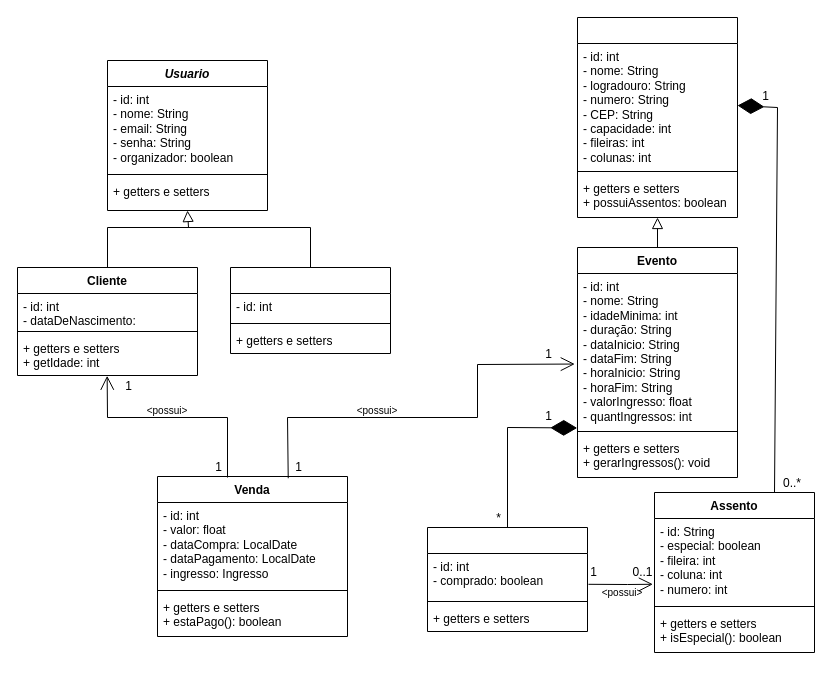
This 832x673 diagram has some shape labels left out. Here are the shapes that lost their labels. From the top down, the box of each, then its label:
(576, 16, 738, 218): Local de Evento
(230, 266, 390, 354): Organizador
(426, 526, 588, 632): Ingresso
